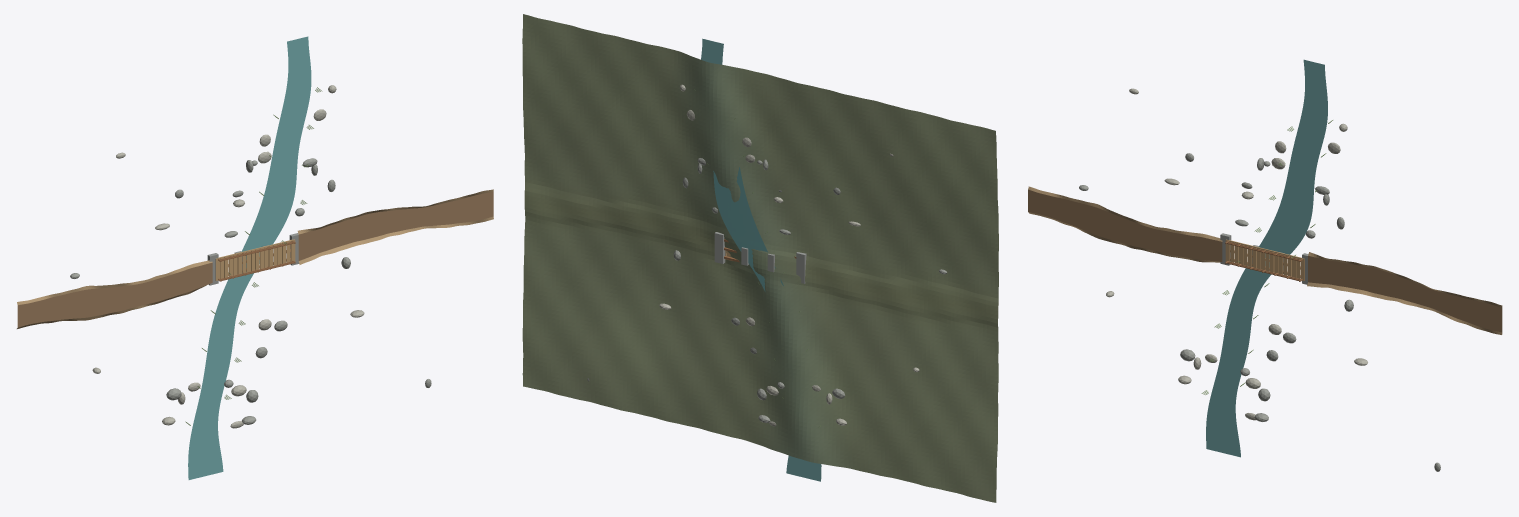
File: barrosan_infrastructure_v0378.glb
3 renders of one model, left to right at view 1: azimuth 30°, elevation 25°; view 2: azimuth 150°, elevation 25°; view 3: azimuth 330°, elevation 25°, orthographic.
Parts seen in each view (by area): view 1: Water, Road_1, Road_4, Road_3, Road_2, Road_5; view 2: Terrain, Water; view 3: Water, Road_1, Road_4, Road_3, Road_2.
Boxes of the visible parts, left/top/right/bottom form: Water: left=188, top=36, right=311, bottom=479; Road_1: left=17, top=262, right=212, bottom=327; Road_4: left=298, top=192, right=493, bottom=260; Road_3: left=298, top=216, right=493, bottom=264; Road_2: left=17, top=260, right=212, bottom=304; Road_5: left=297, top=189, right=493, bottom=234; Terrain: left=522, top=14, right=998, bottom=502; Water: left=701, top=38, right=821, bottom=481; Water: left=1206, top=59, right=1327, bottom=457; Road_1: left=1028, top=189, right=1222, bottom=261; Road_4: left=1308, top=256, right=1502, bottom=332; Road_3: left=1307, top=282, right=1502, bottom=334; Road_2: left=1028, top=186, right=1222, bottom=241.
Bounding box in the file's own units: 72 × 60 × 3.51.
